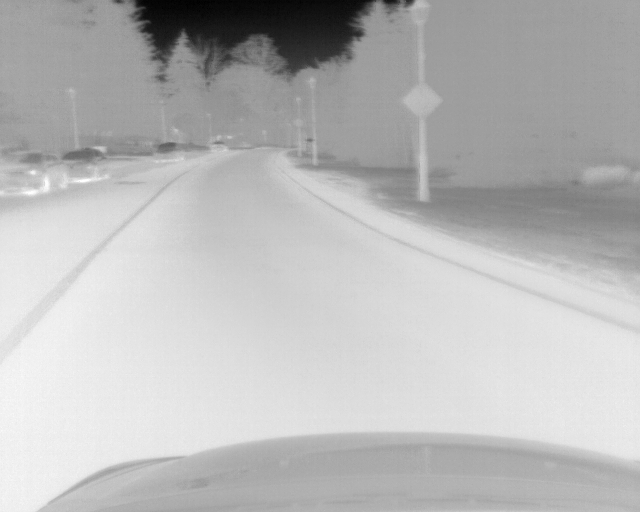car: (1, 148, 67, 196), (61, 147, 108, 184), (154, 141, 185, 164), (209, 141, 227, 154)
